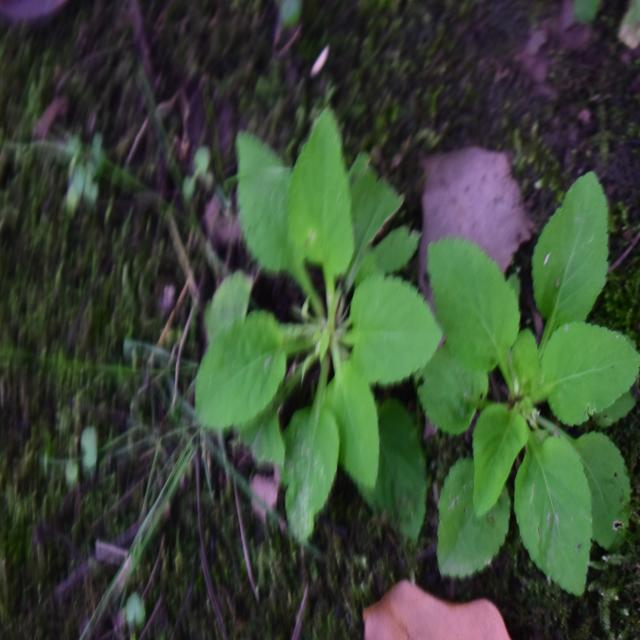Viola: (402, 157, 633, 600), (188, 128, 440, 502)
